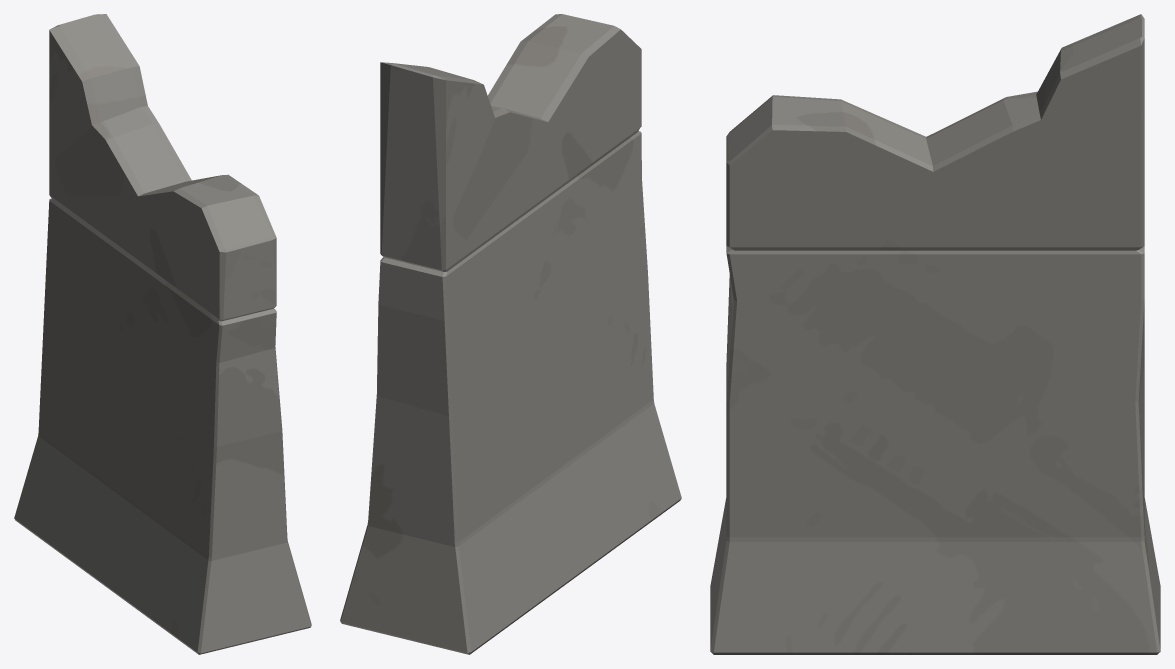
The model's file is model_concrete_barrier_02.fbx.
3 views of the same model, side by side, from view 1: azimuth 30°, elevation 25°; view 2: azimuth 150°, elevation 25°; view 3: azimuth 270°, elevation 25° (orthographic). The views are drawn at different scales.
Visible parts, largest first — view 1: model_concrete_barrier_02; view 2: model_concrete_barrier_02; view 3: model_concrete_barrier_02.
Part boxes in pixels (x1,y1,x2,y2): model_concrete_barrier_02: (14,14,311,654); model_concrete_barrier_02: (340,14,681,654); model_concrete_barrier_02: (710,14,1160,654).
Size of the model in its own units: 69.71 by 287 by 197.
Materials: 1 (1 with a texture image).
